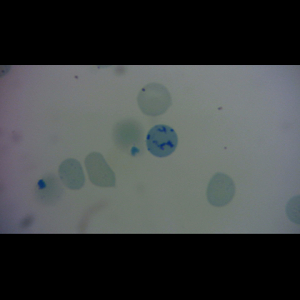aggregate reticulocyte: (145, 124, 179, 159)
erythrocyte: (137, 82, 174, 118), (83, 151, 118, 188), (205, 172, 237, 208)
punctate reticulocyte: (57, 157, 85, 191)
